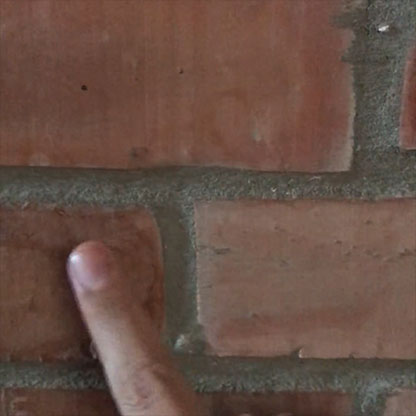fingertip: (53, 234, 127, 300)
